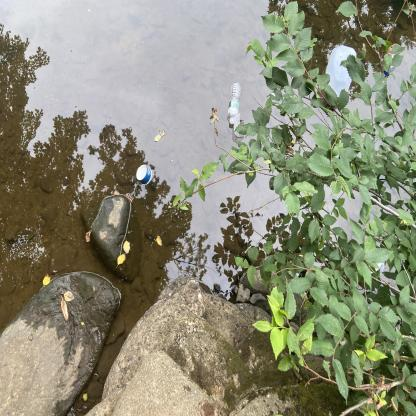trash: (324, 44, 359, 101), (376, 42, 404, 80), (226, 79, 244, 126), (134, 162, 154, 187), (232, 110, 247, 140)
